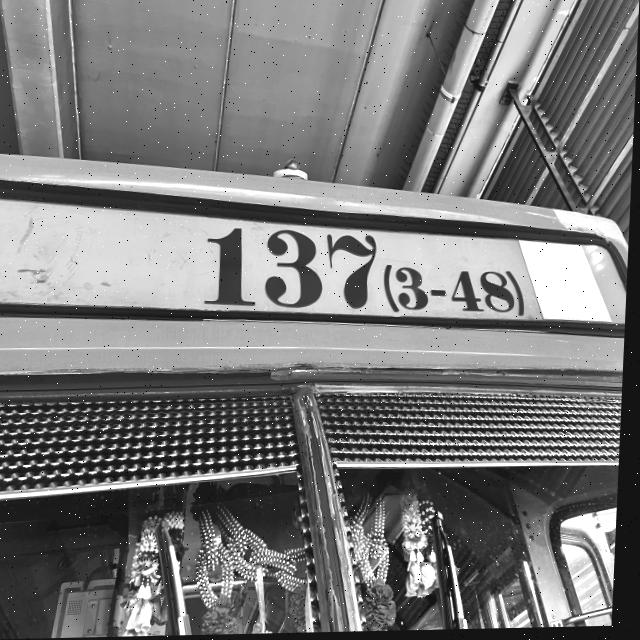BMTA-bus: (0, 147, 634, 640)
Bus-Line-Number: (195, 214, 536, 335)
